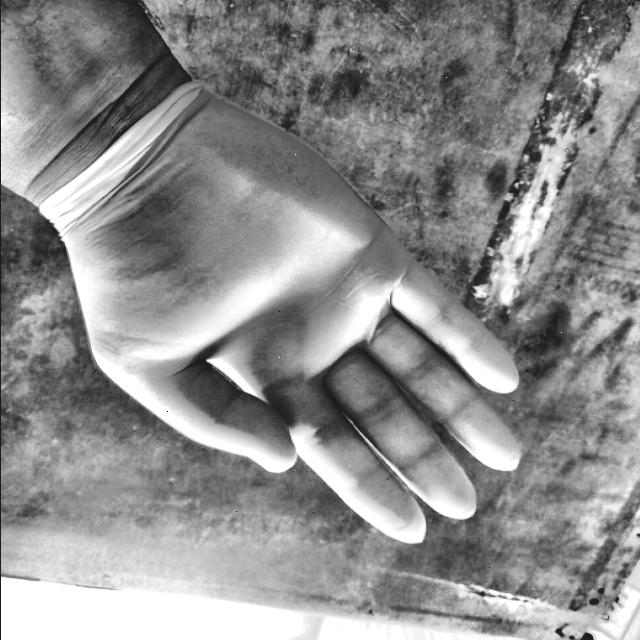gloved: (28, 77, 526, 552)
